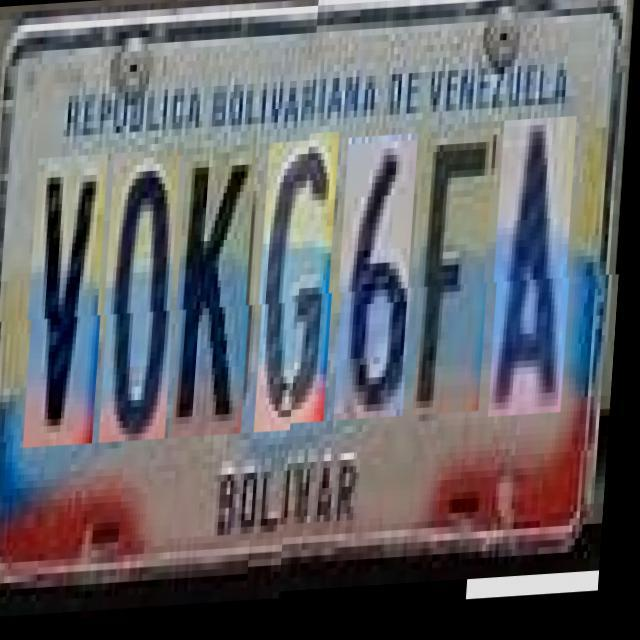6: (339, 146, 424, 432)
A: (494, 131, 582, 431)
F: (418, 135, 499, 428)
G: (260, 144, 345, 436)
K: (178, 147, 262, 440)
O: (105, 152, 186, 444)
V: (29, 156, 114, 448)
